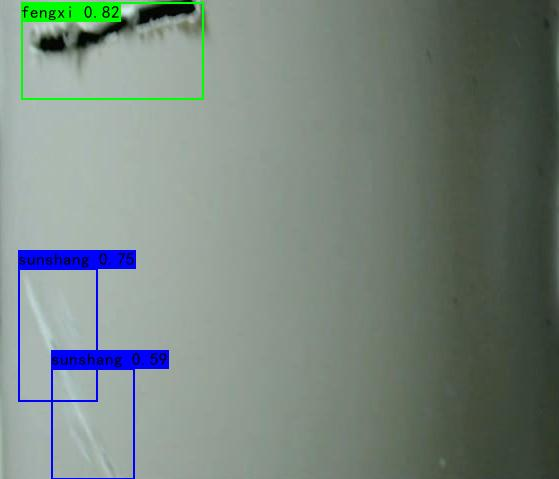fengxi: (26, 2, 208, 60)
sunshang: (16, 267, 117, 476)
